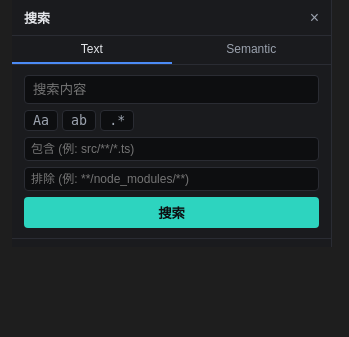
Test: SearchPanel › surfaces partial provider-backed failures while preserving fallback matches
Type "local" into the field with class "search-input" showing "搜索内容". click: (172, 90)
box: [24,75,319,104]
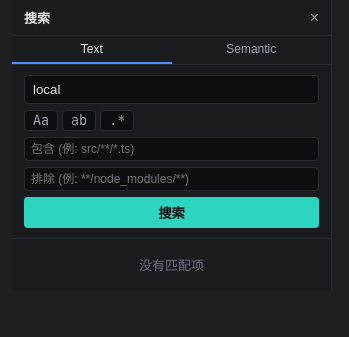
Submit the form, box [12,65,331,239]
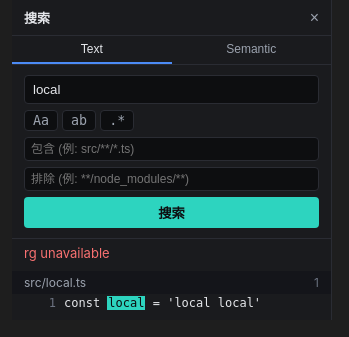
Now the text with class "search-error" reads "rg unavailable", box [24,245,110,261]
Now the text "src/local.ts" is shown, box [24,275,86,290]
